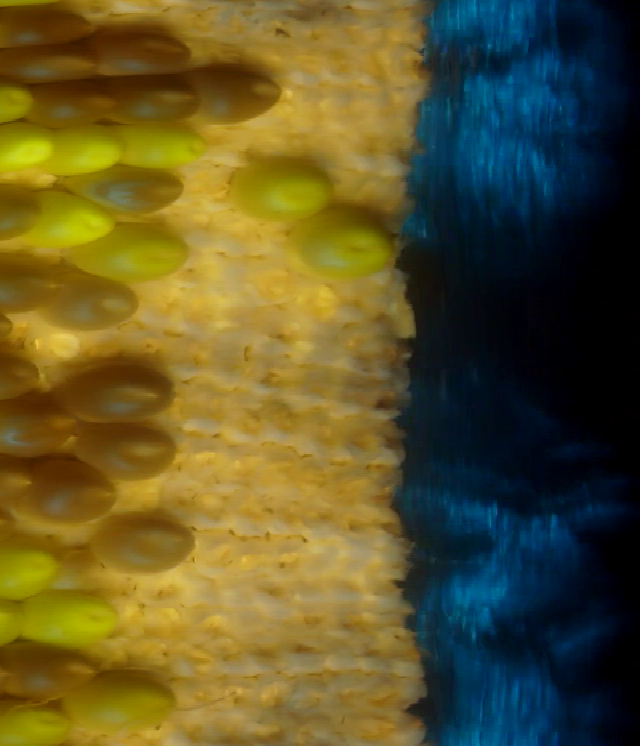fluorescent: (286, 201, 398, 280), (61, 224, 187, 283), (234, 160, 339, 223), (77, 677, 181, 735), (24, 587, 120, 644), (125, 123, 207, 175), (35, 190, 111, 245), (54, 123, 127, 177), (0, 695, 75, 746), (0, 540, 55, 598), (0, 122, 55, 174), (0, 72, 33, 125)
nonfluorescent: (90, 513, 198, 578), (67, 360, 178, 422), (49, 267, 144, 334), (7, 634, 99, 703), (65, 162, 183, 213), (28, 455, 122, 519), (192, 66, 285, 128), (81, 423, 176, 481), (0, 390, 80, 454), (108, 70, 201, 125), (30, 78, 119, 127), (0, 254, 64, 316), (96, 34, 192, 74), (0, 45, 106, 81), (0, 8, 97, 41), (0, 183, 41, 243), (0, 441, 34, 509), (0, 350, 43, 402)
